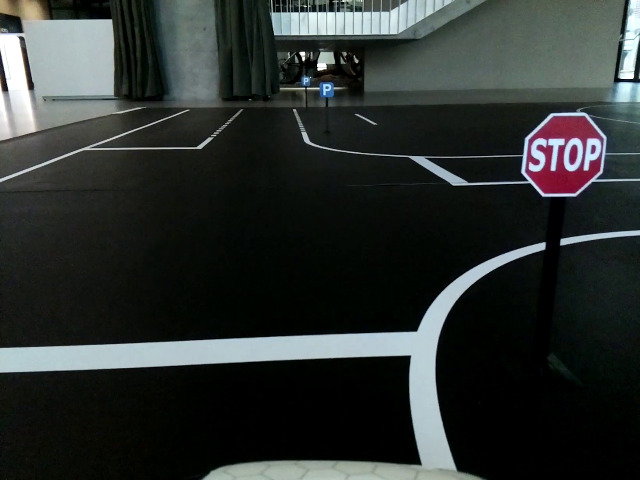stop: (521, 109, 607, 198)
